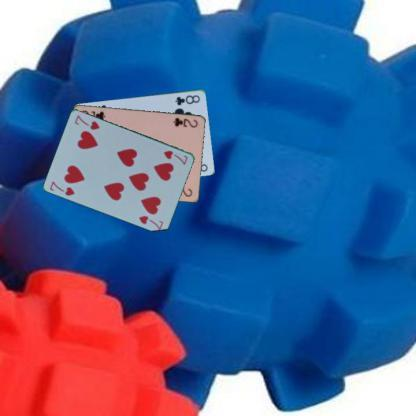2c: (171, 115, 199, 129)
7h: (160, 147, 190, 166), (48, 178, 76, 198)
8c: (172, 92, 202, 107)
